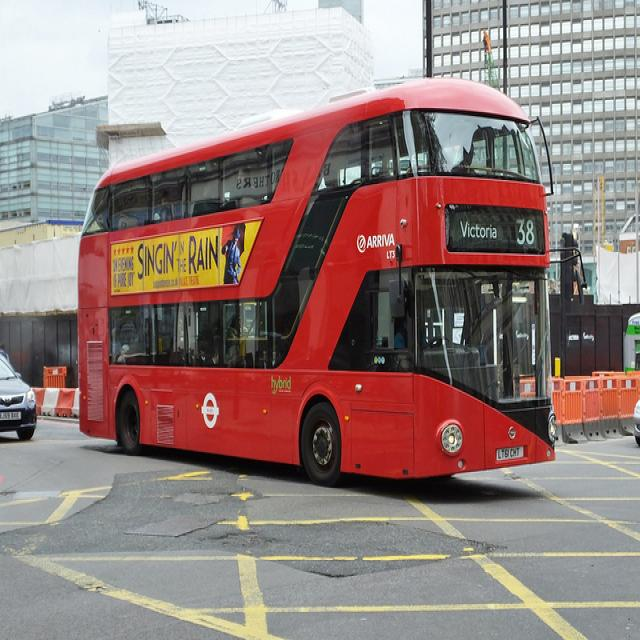Vehicle: (79, 75, 556, 486), (0, 346, 38, 443), (633, 398, 640, 448)
